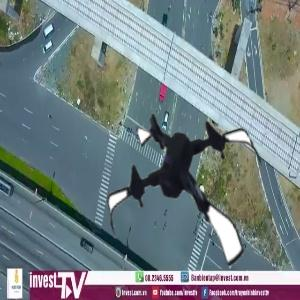drone: (100, 104, 276, 280)
